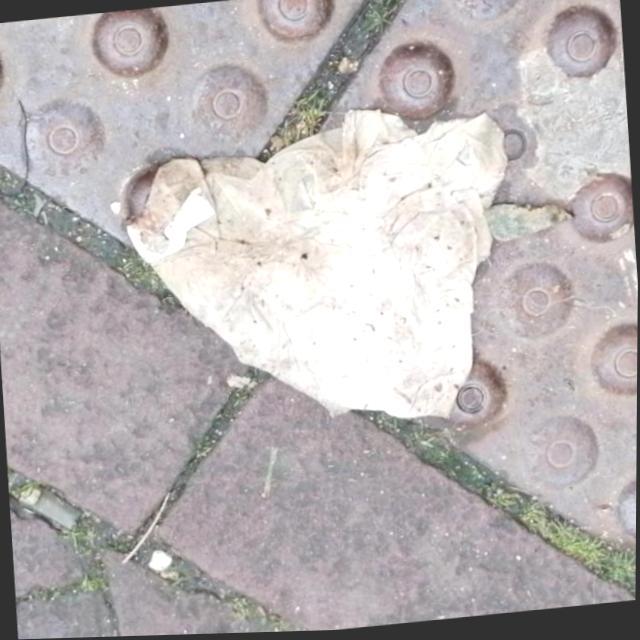Paper: (111, 92, 527, 451)
